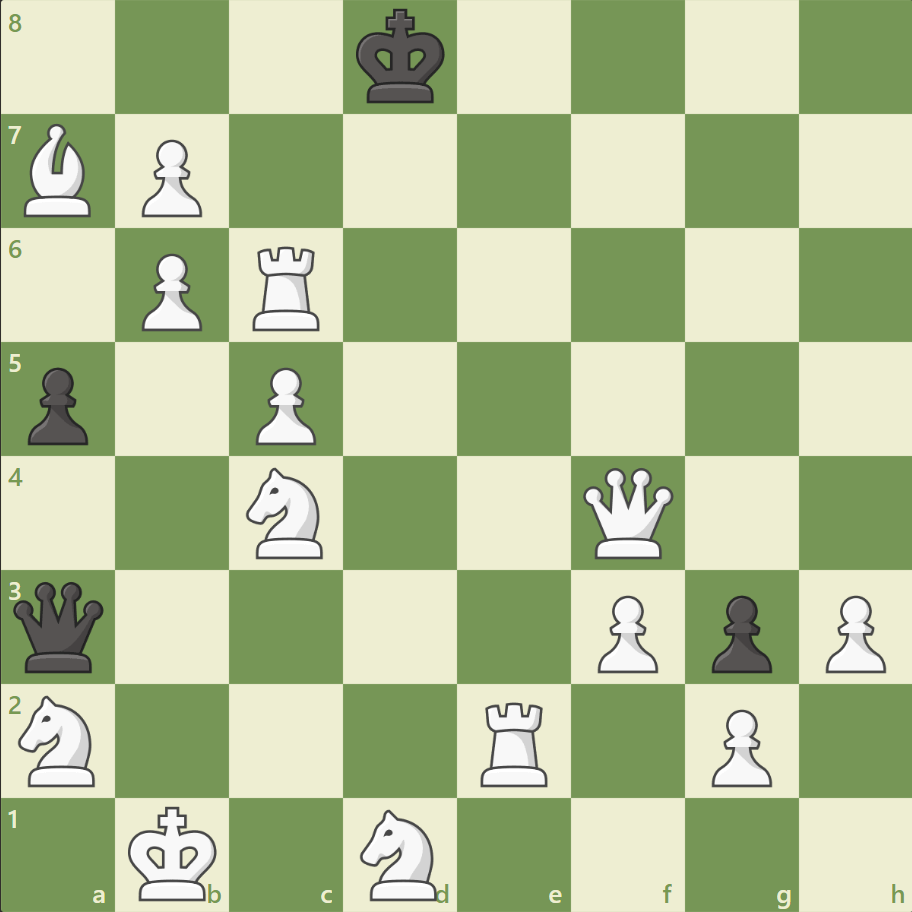B: (17, 120, 101, 222)
K: (124, 798, 224, 906)
N: (351, 802, 449, 904), (238, 461, 335, 564), (11, 688, 108, 791)
P: (133, 132, 208, 223), (133, 246, 208, 337), (247, 359, 322, 450), (701, 700, 776, 791), (588, 586, 662, 677), (815, 586, 889, 677)
Q: (578, 463, 677, 562)
R: (246, 239, 329, 336), (473, 693, 556, 790)
k: (351, 4, 451, 112)
p: (20, 359, 95, 450), (701, 586, 776, 677)
q: (10, 576, 109, 676)
